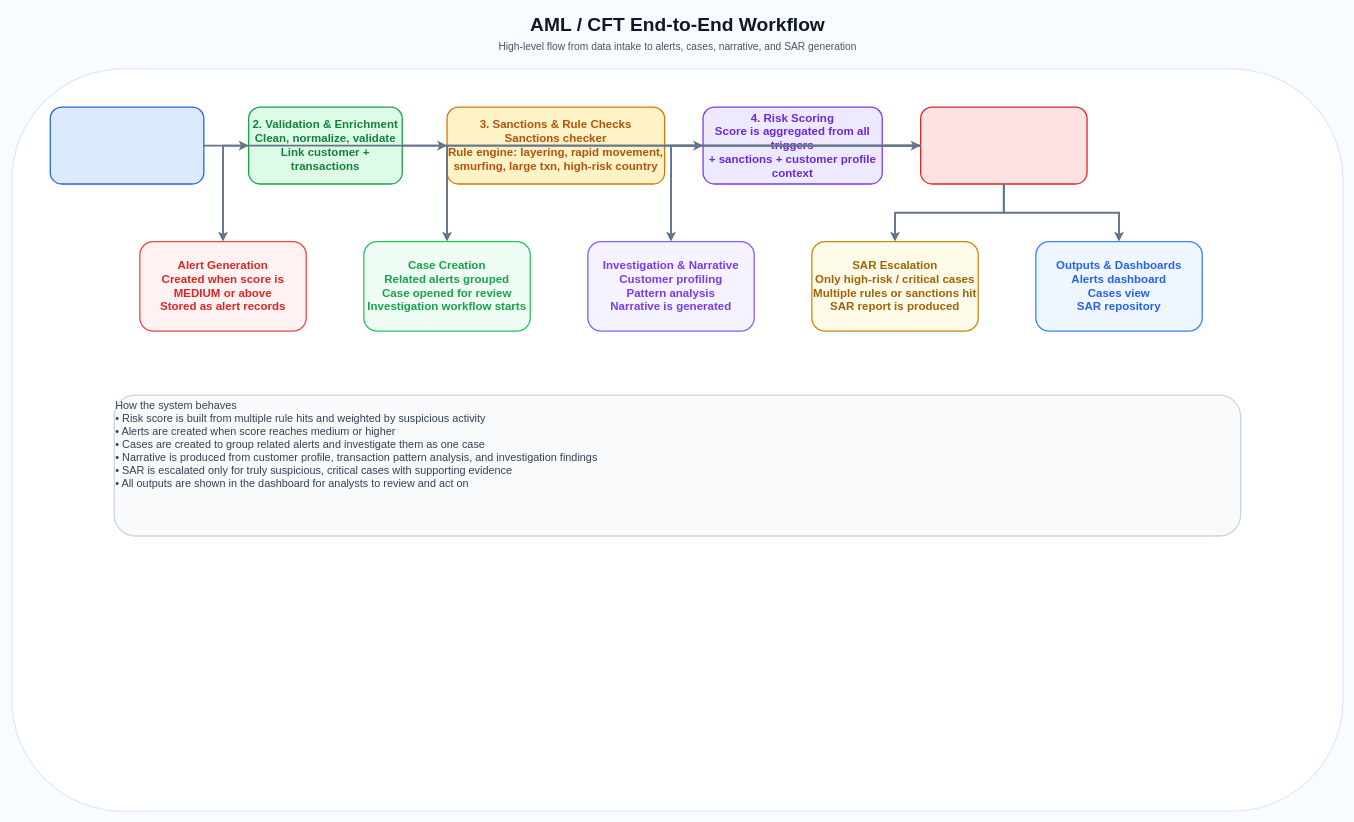
The diagram is 1354 pixels wide and 822 high, and some of its shapes have lost their labels. Here are the shapes that lost their labels. From the top down, the box of each, then its label:
(49, 106, 204, 184): 1. Data Intake Customer data Transactions Sanctions / watchlists
(920, 106, 1087, 184): 5. Risk Tiering LOW / MEDIUM / HIGH / CRITICAL Thresholds drive next action
